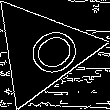O_SW: (6, 18, 78, 83)
